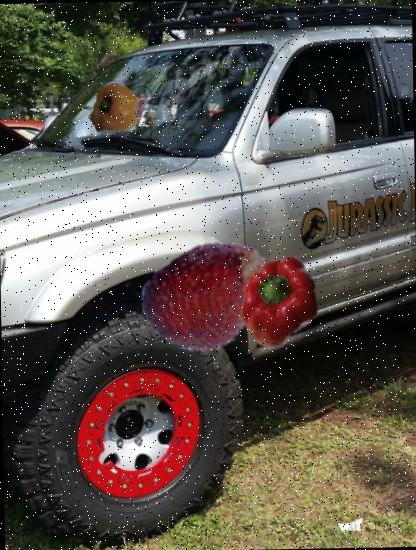Pepper: (233, 257, 324, 349), (88, 82, 142, 136)
Salak: (143, 228, 278, 364)
